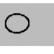no answer: (4, 12, 31, 35)
